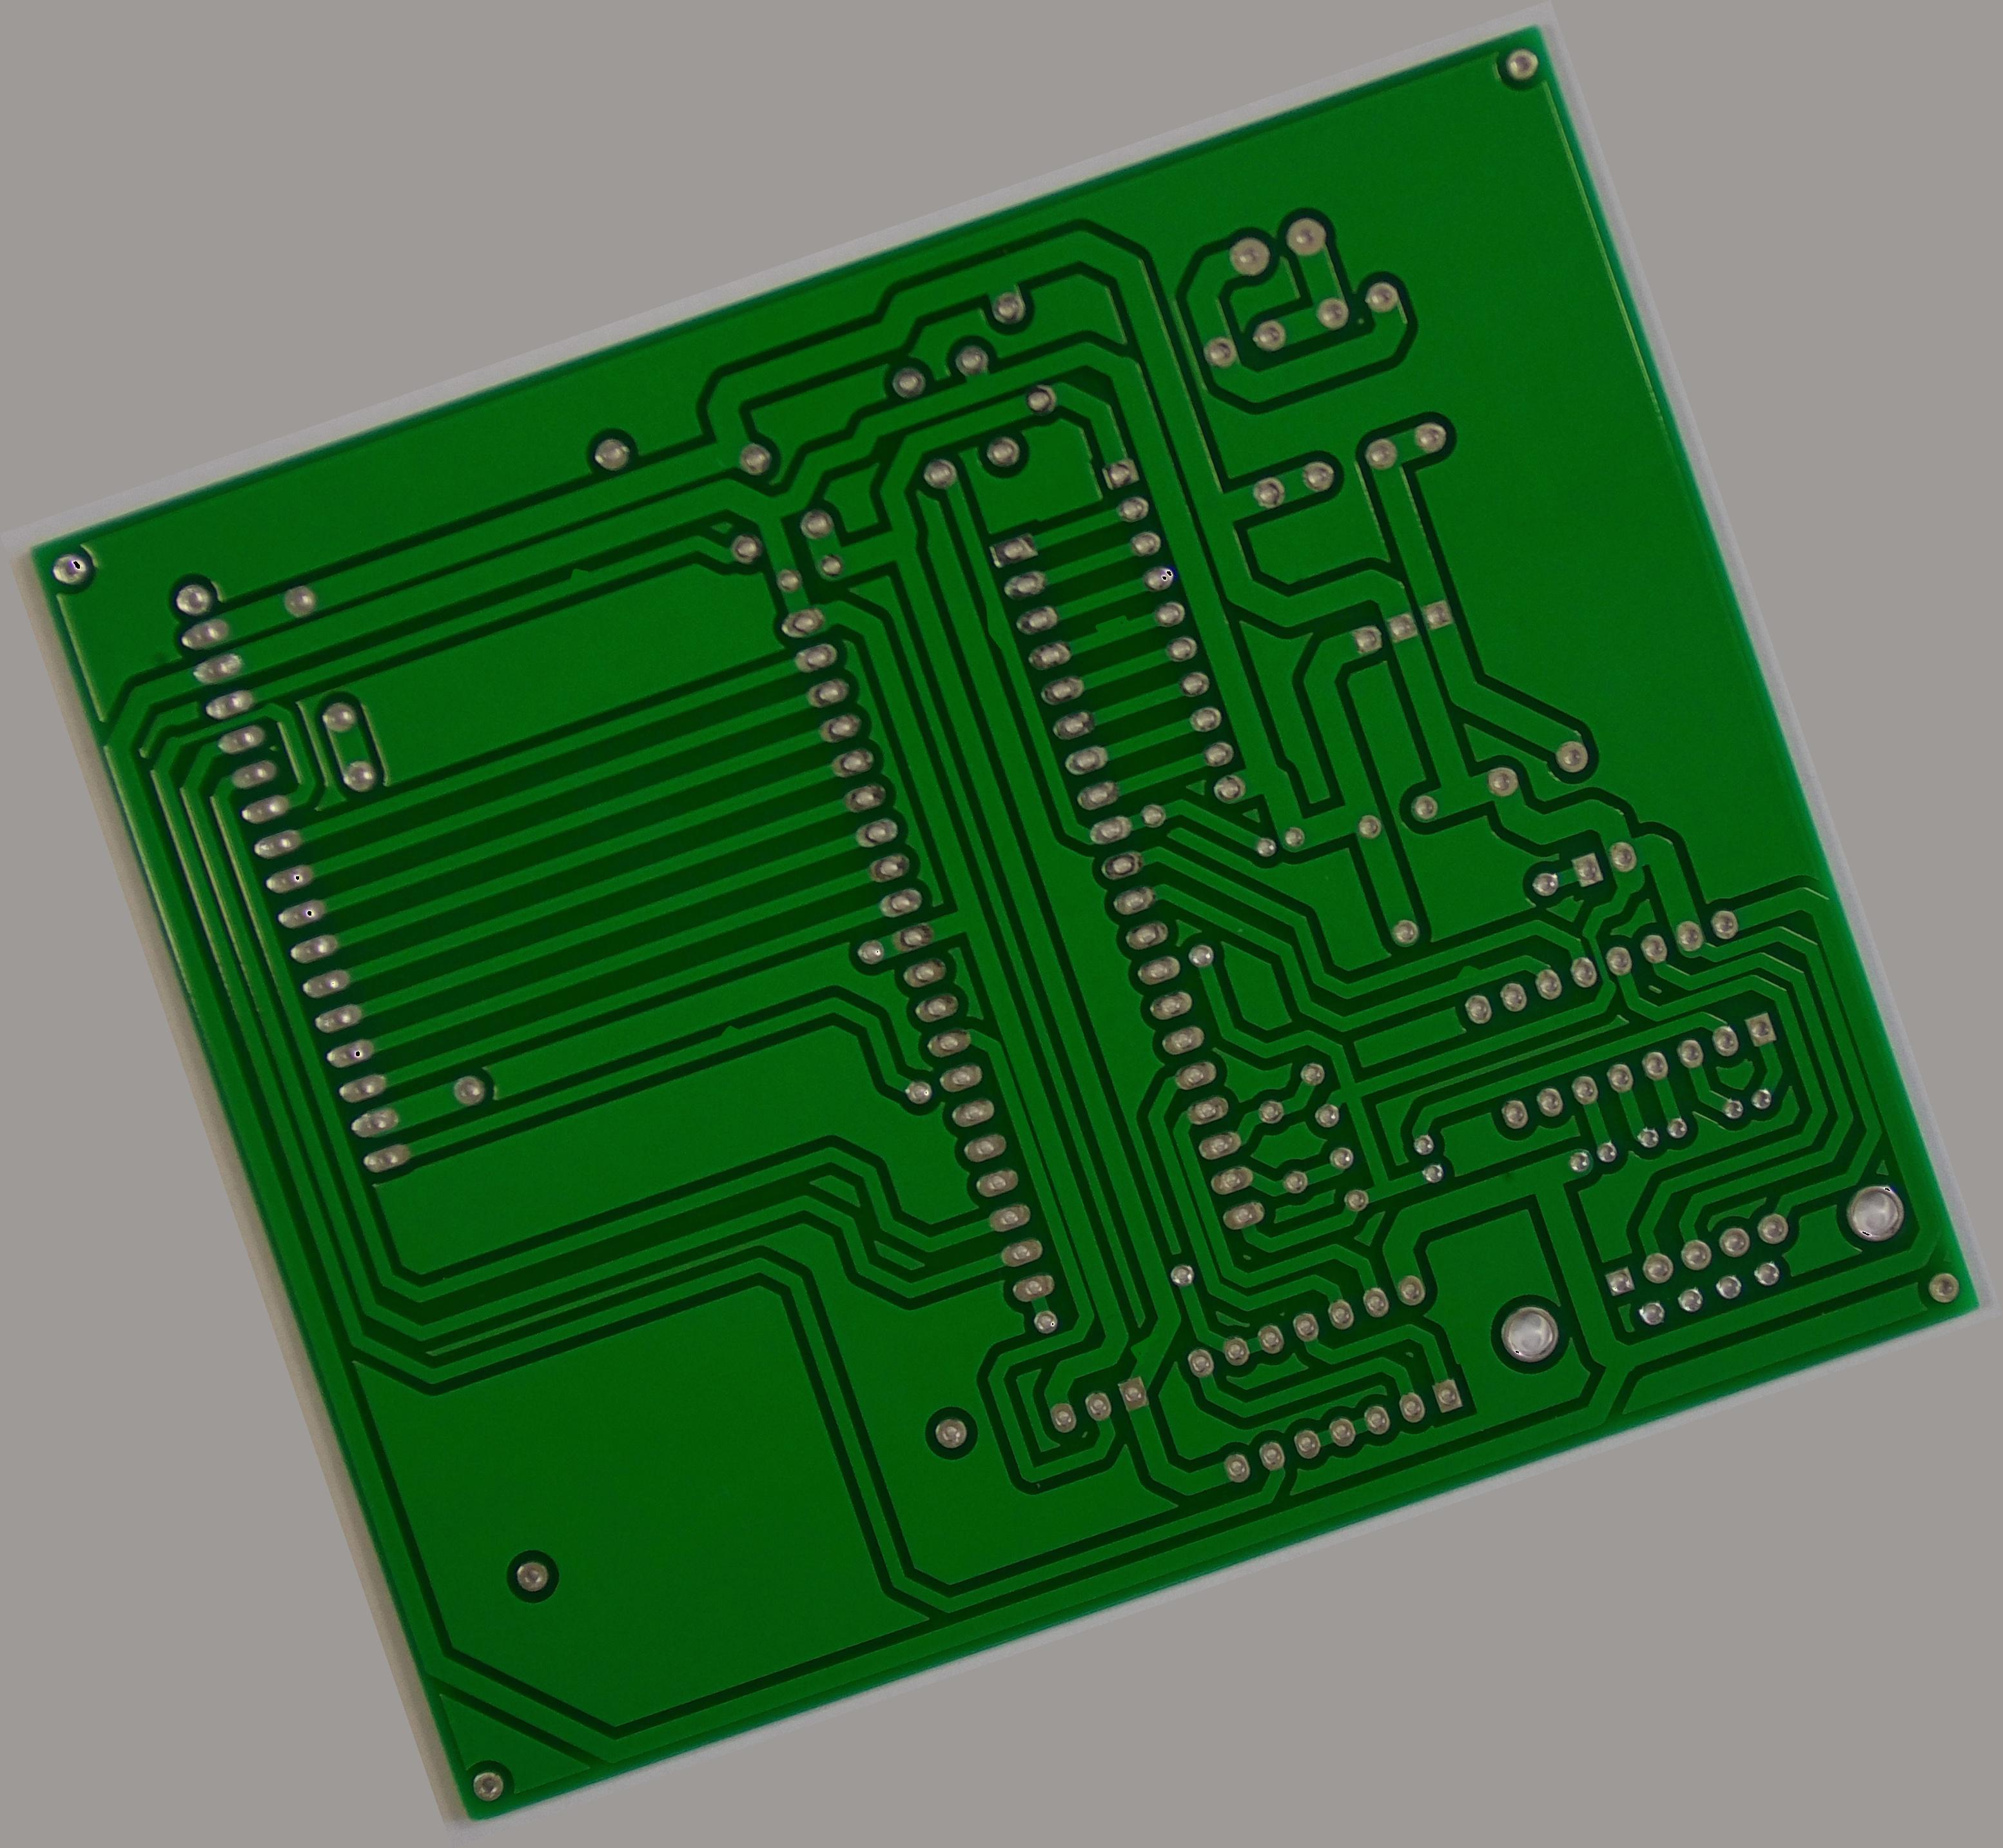spur: (974, 595, 1019, 661), (1080, 600, 1141, 646), (701, 1010, 750, 1054), (551, 553, 598, 593), (1446, 951, 1492, 988)
